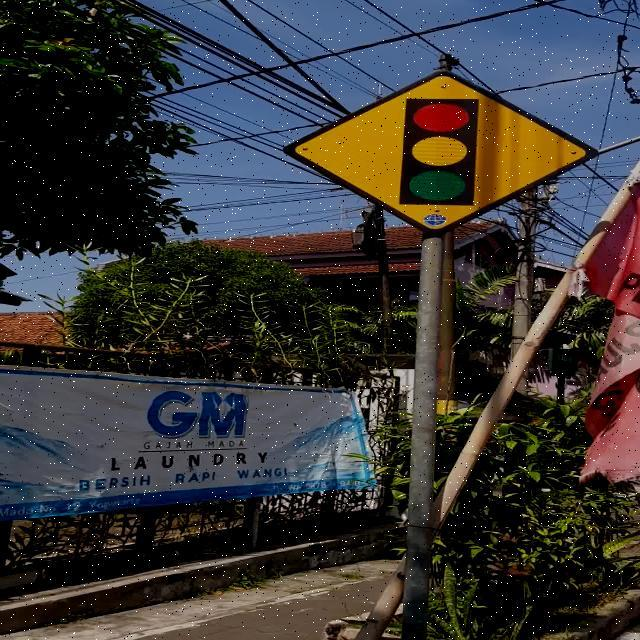Lampu Lalu Lintas: (282, 70, 598, 236)
